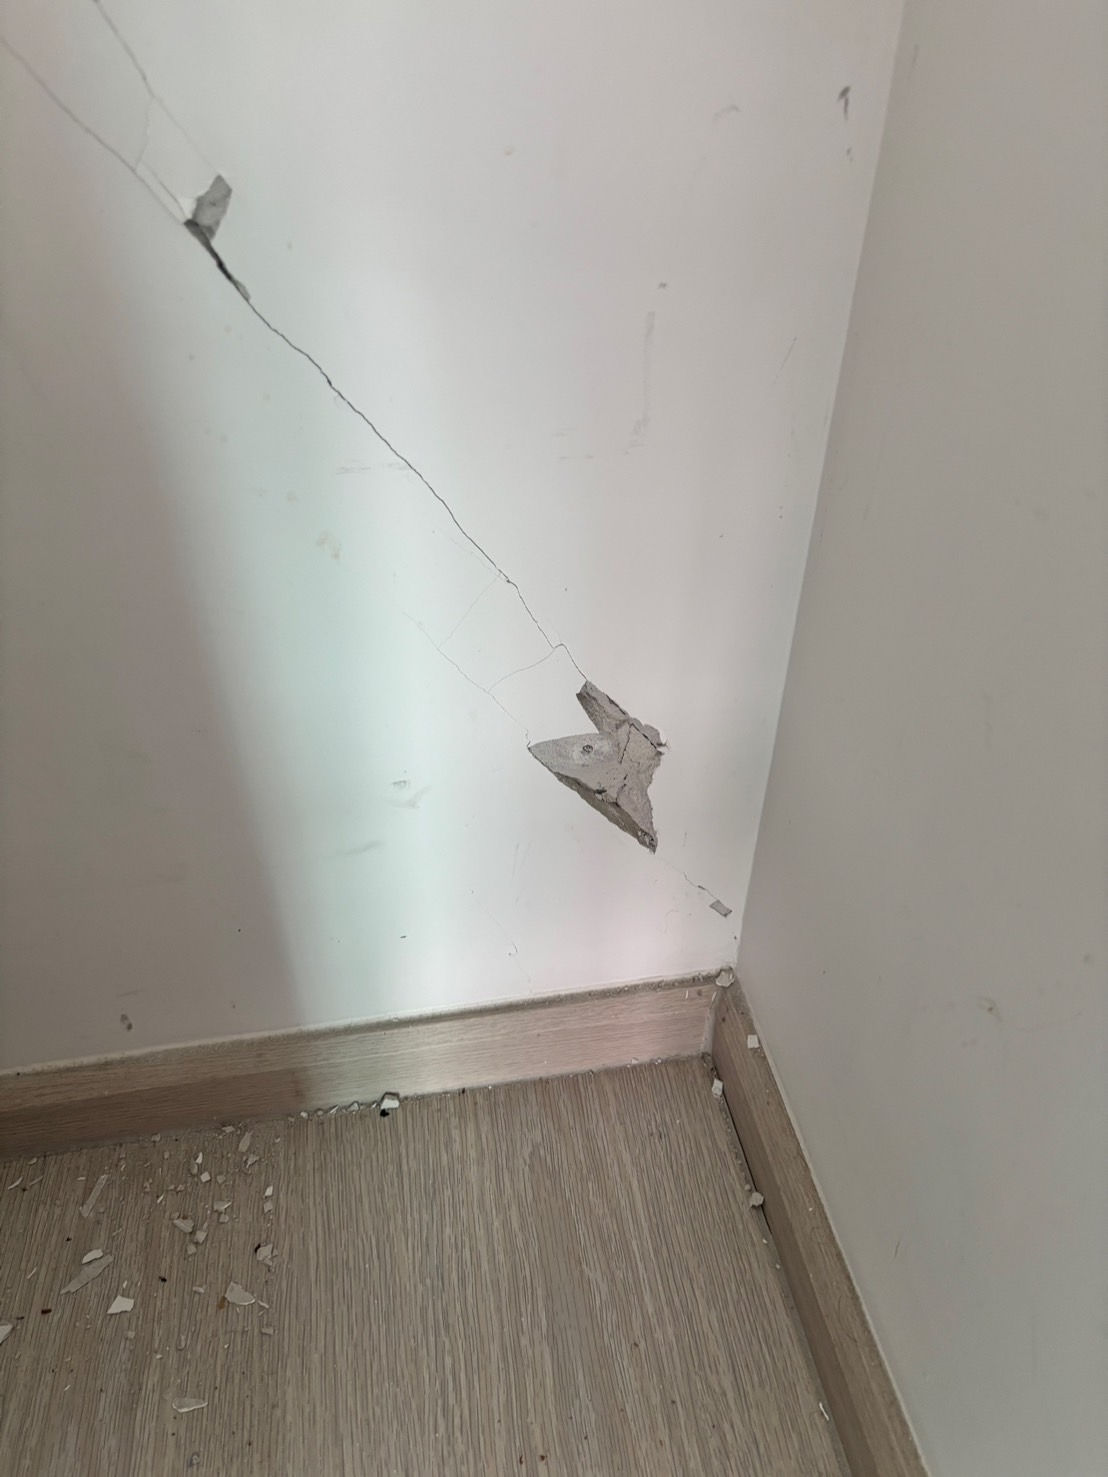Medium: (63, 65, 739, 930)
